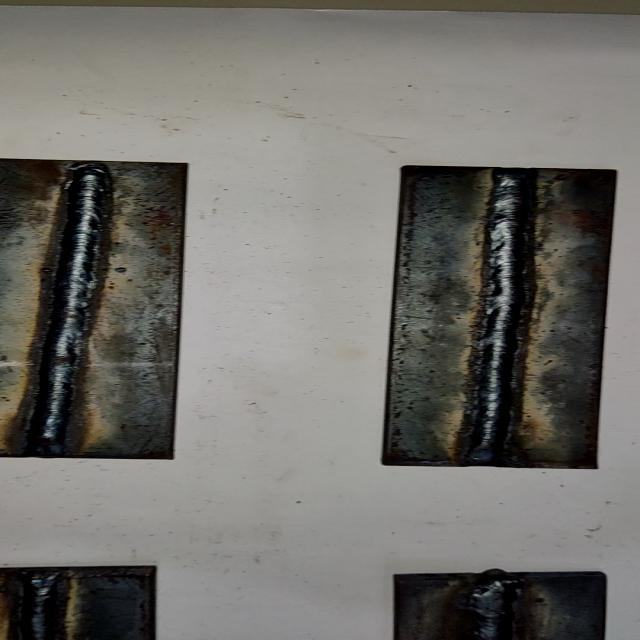Good Weld: (33, 164, 107, 453), (467, 169, 537, 463), (470, 578, 522, 640), (18, 571, 61, 640)
